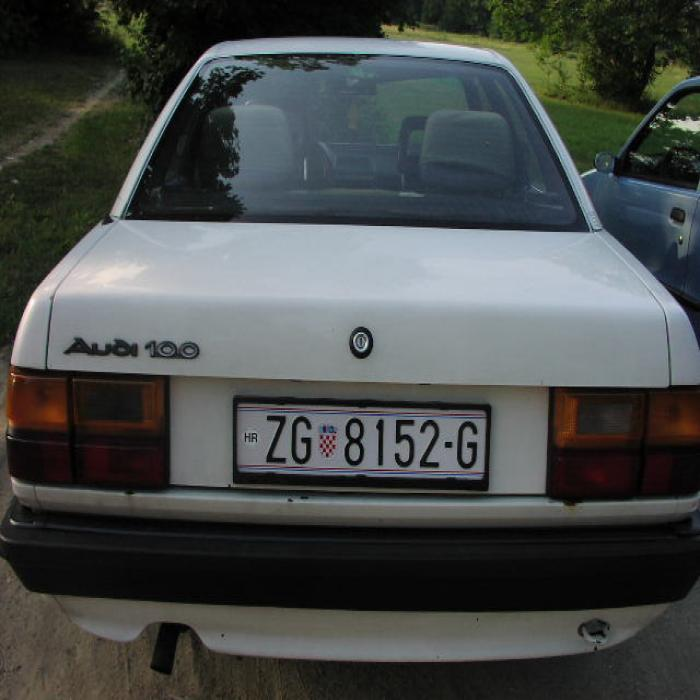number_plate: (235, 403, 485, 478)
